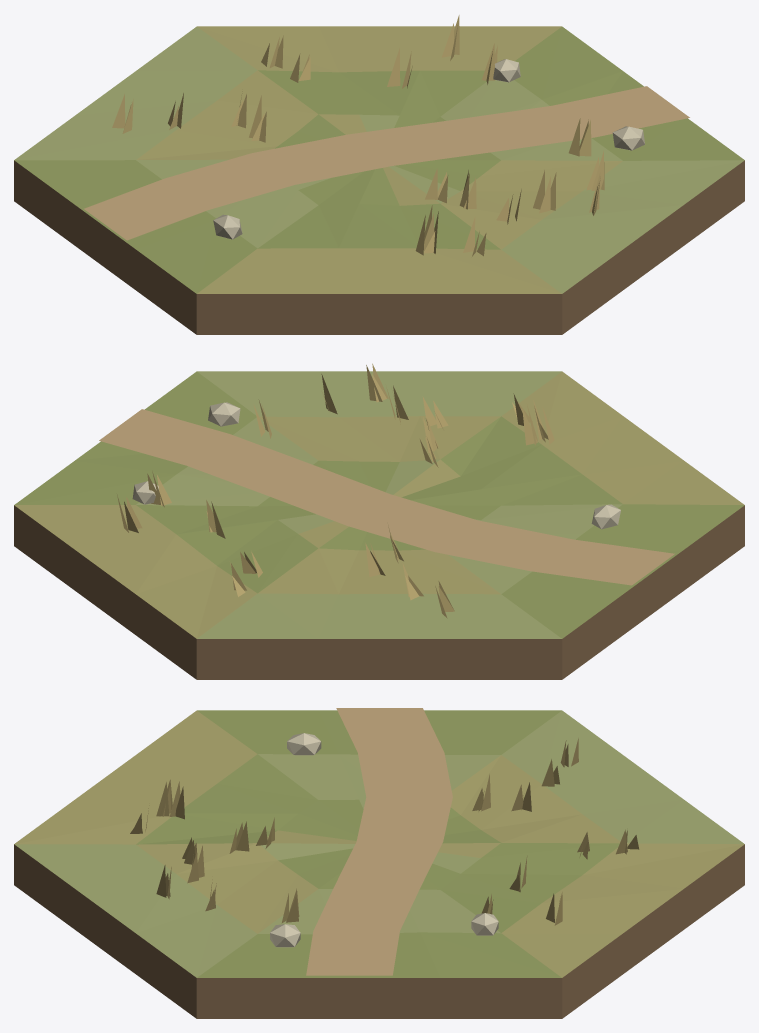
File: SM_Llanura_C_LOD0.fbx
3 views of the same model, one above another, from view 1: azimuth 30°, elevation 25°; view 2: azimuth 150°, elevation 25°; view 3: azimuth 270°, elevation 25° (orthographic).
Visible parts, largest first — view 1: SM_Llanura_C_LOD0; view 2: SM_Llanura_C_LOD0; view 3: SM_Llanura_C_LOD0.
Part boxes in pixels (box(x1,y1,x2,y2)): SM_Llanura_C_LOD0: box(14, 15, 744, 334); SM_Llanura_C_LOD0: box(14, 363, 744, 679); SM_Llanura_C_LOD0: box(14, 708, 744, 1018).
Bounding box in the file's own units: 1.68 × 0.2386 × 1.94.
